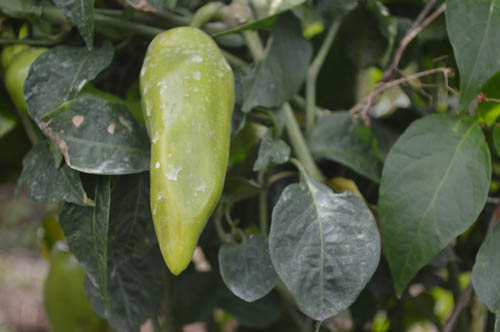ChiliPepper: (142, 29, 233, 284)
